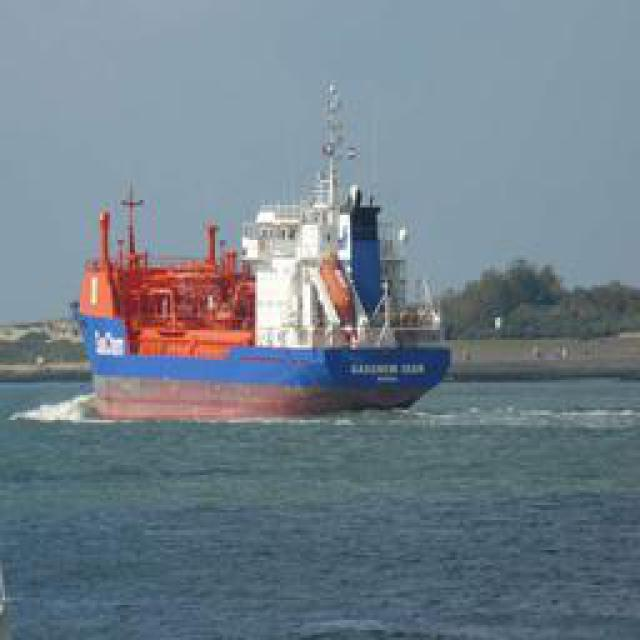Ship: (71, 77, 451, 427)
